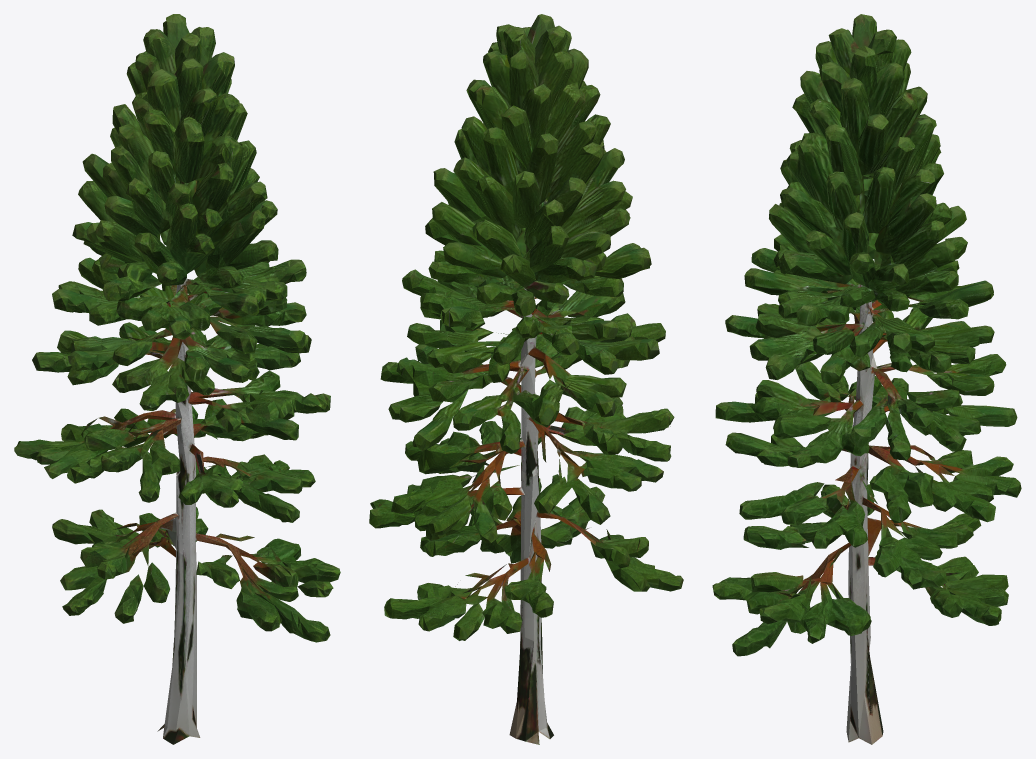
The picture shows the model from 3 angles, left to right: view 1: azimuth 30°, elevation 25°; view 2: azimuth 150°, elevation 25°; view 3: azimuth 270°, elevation 25°; orthographic projection.
Bounding box in the file's own units: 0.7404 × 1.89 × 0.7463.
1 material, 1 textured.
